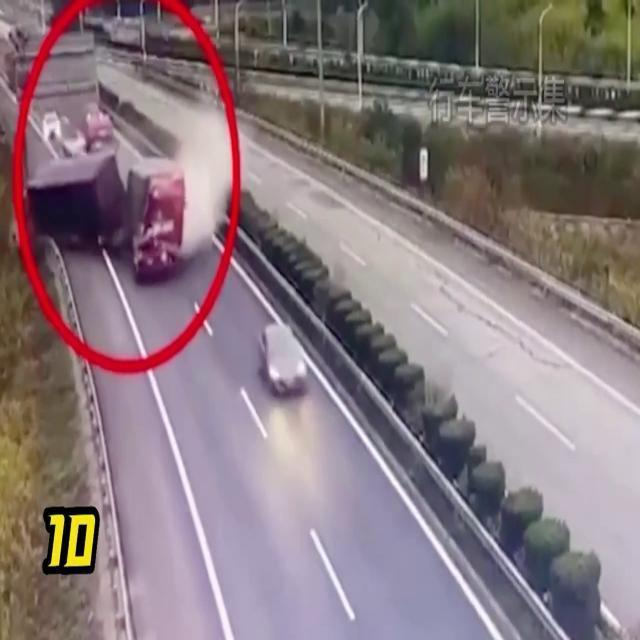accident: (30, 154, 184, 282)
